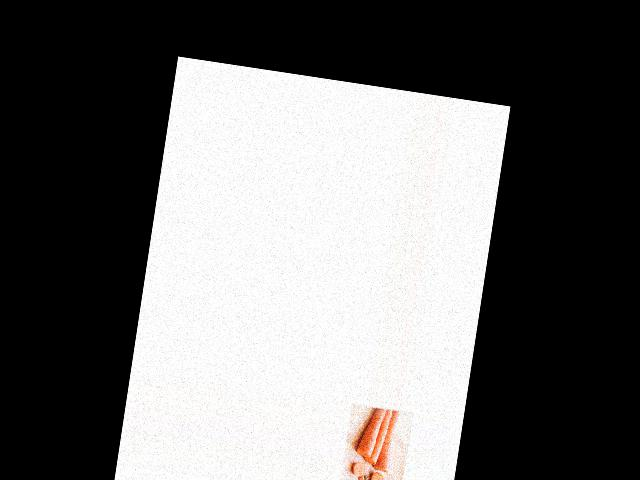carrot: (354, 404, 383, 464)
